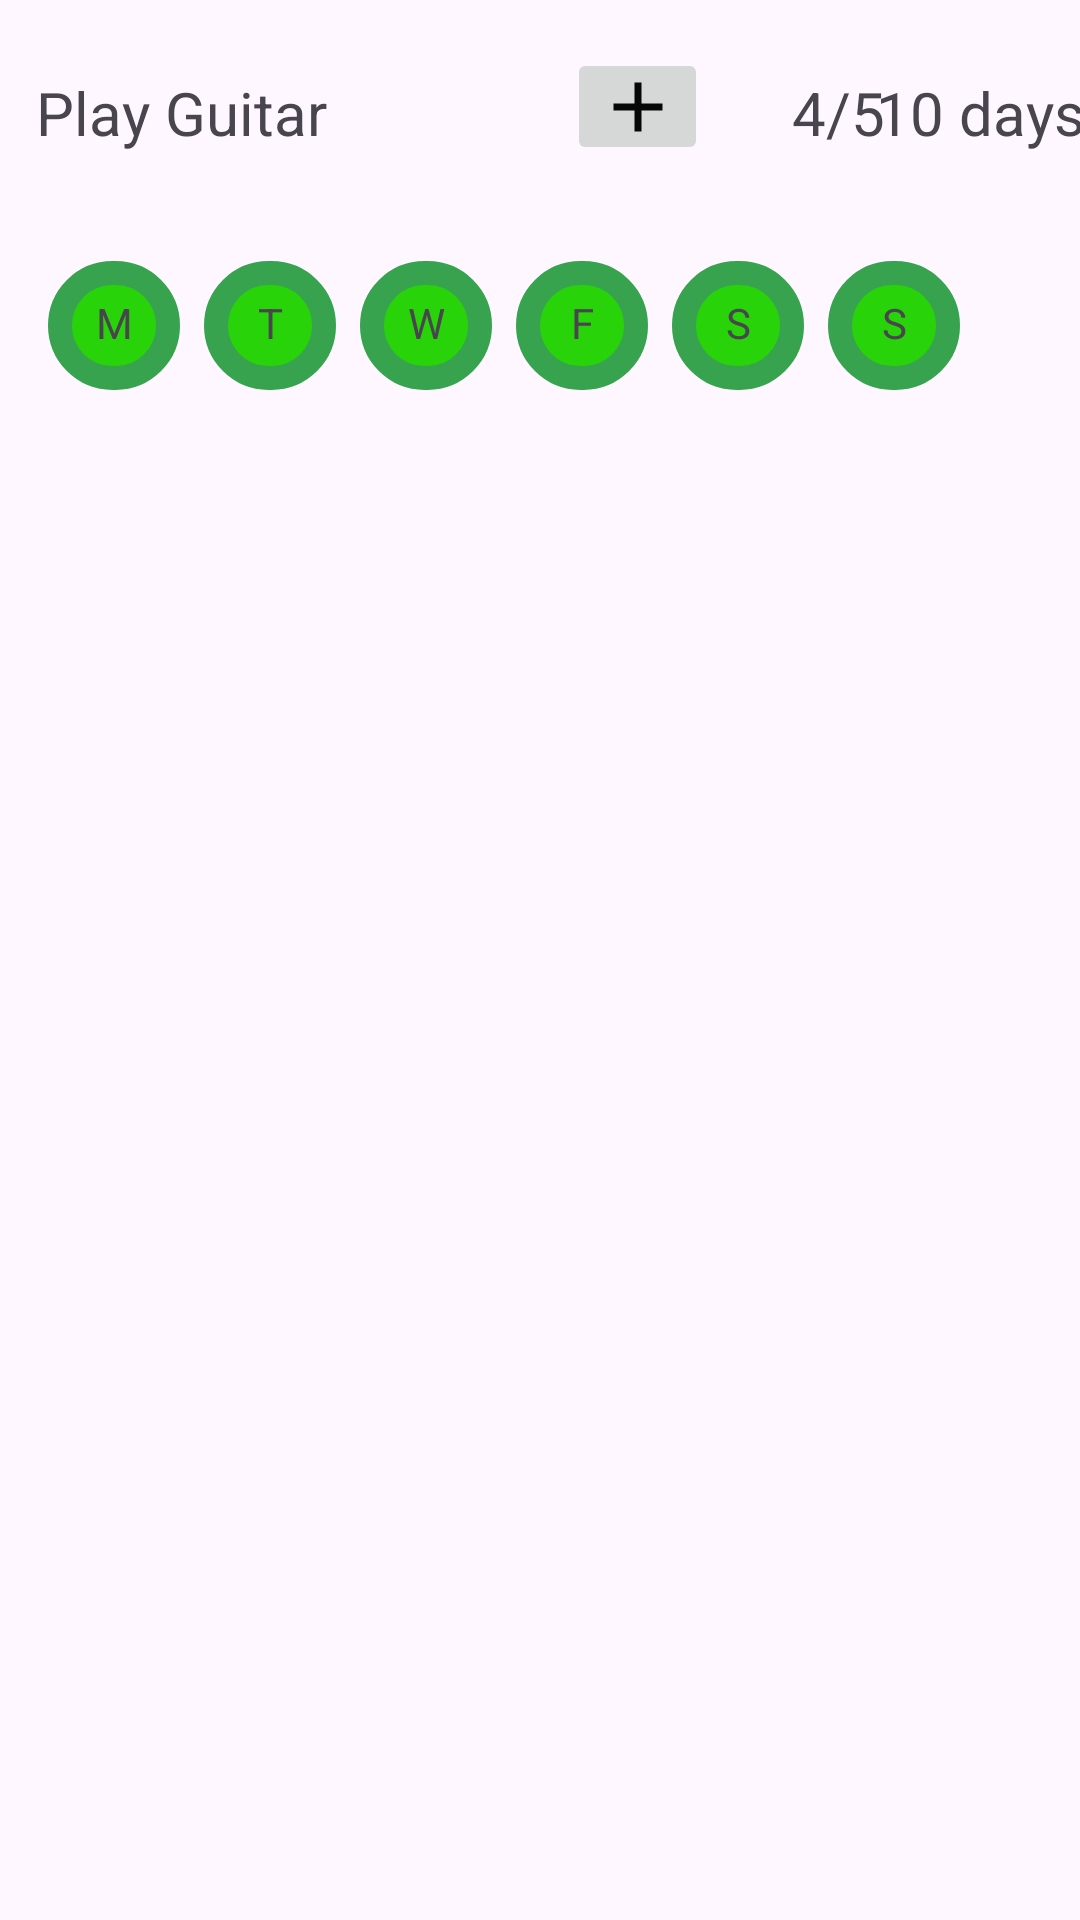

Icon click points for this 1080px x 1920px phone screenshot, format (x=x, y=y):
add task: (x=637, y=106)
